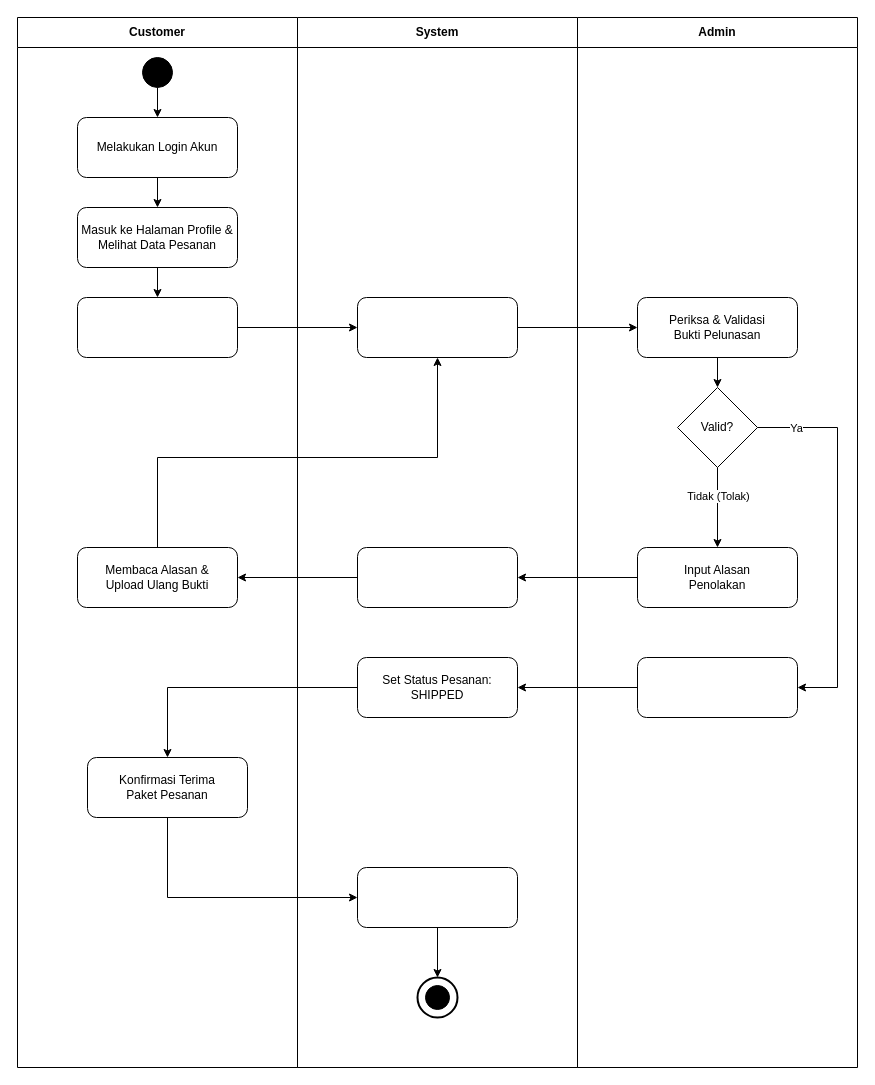
Some shapes in this 875 by 1085 pixel diagram are drawn without their labels. Each missing label, with the centre of its shape:
"Kirim Pesanan ke Ekspedisi" belongs at (x=717, y=687).
"Pilih Pesanan & Upload Bukti Pelunasan" belongs at (x=157, y=327).
"Set Status Pesanan: COMPLETED" belongs at (x=437, y=897).
"Set Status: REJECTED & Simpan Alasan" belongs at (x=437, y=577).
"Simpan Bukti Pelunasan" belongs at (x=437, y=327).
